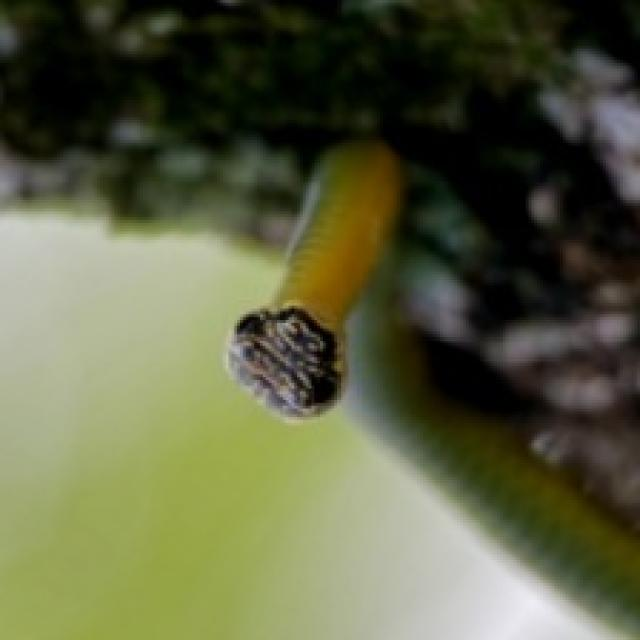paradise tree snake: (386, 329, 637, 617), (226, 140, 403, 417), (229, 140, 400, 414)
